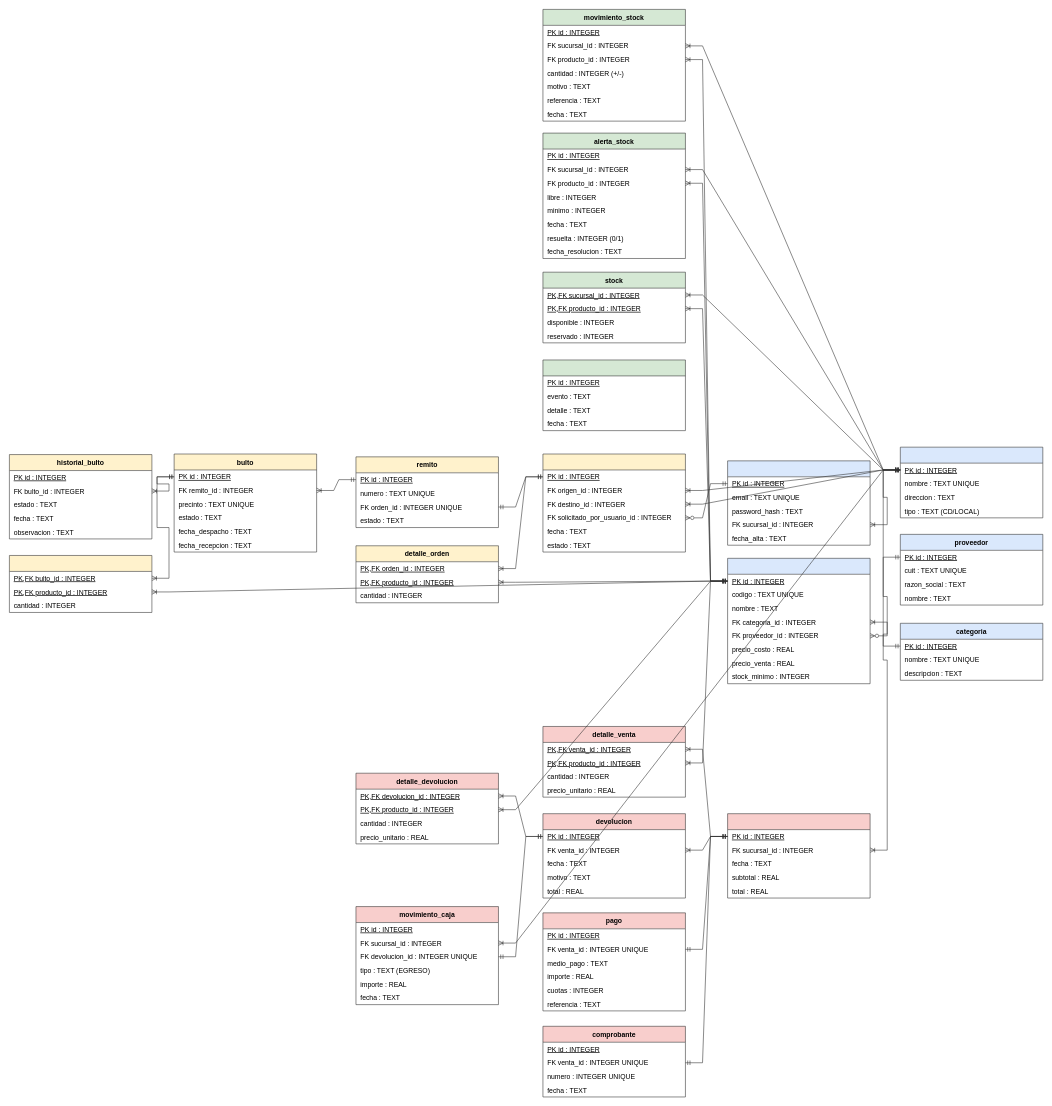
Some shapes in this 1052 by 1106 pixel diagram are drawn without their labels. Here are the shapes that lost their labels. From the top down, the box of each, then its label:
(542, 359, 685, 431): evento_log
(542, 453, 685, 552): orden_reposicion
(727, 460, 870, 545): usuario
(900, 447, 1043, 518): sucursal
(9, 555, 152, 612): detalle_bulto
(727, 558, 870, 684): producto
(727, 813, 870, 898): venta
